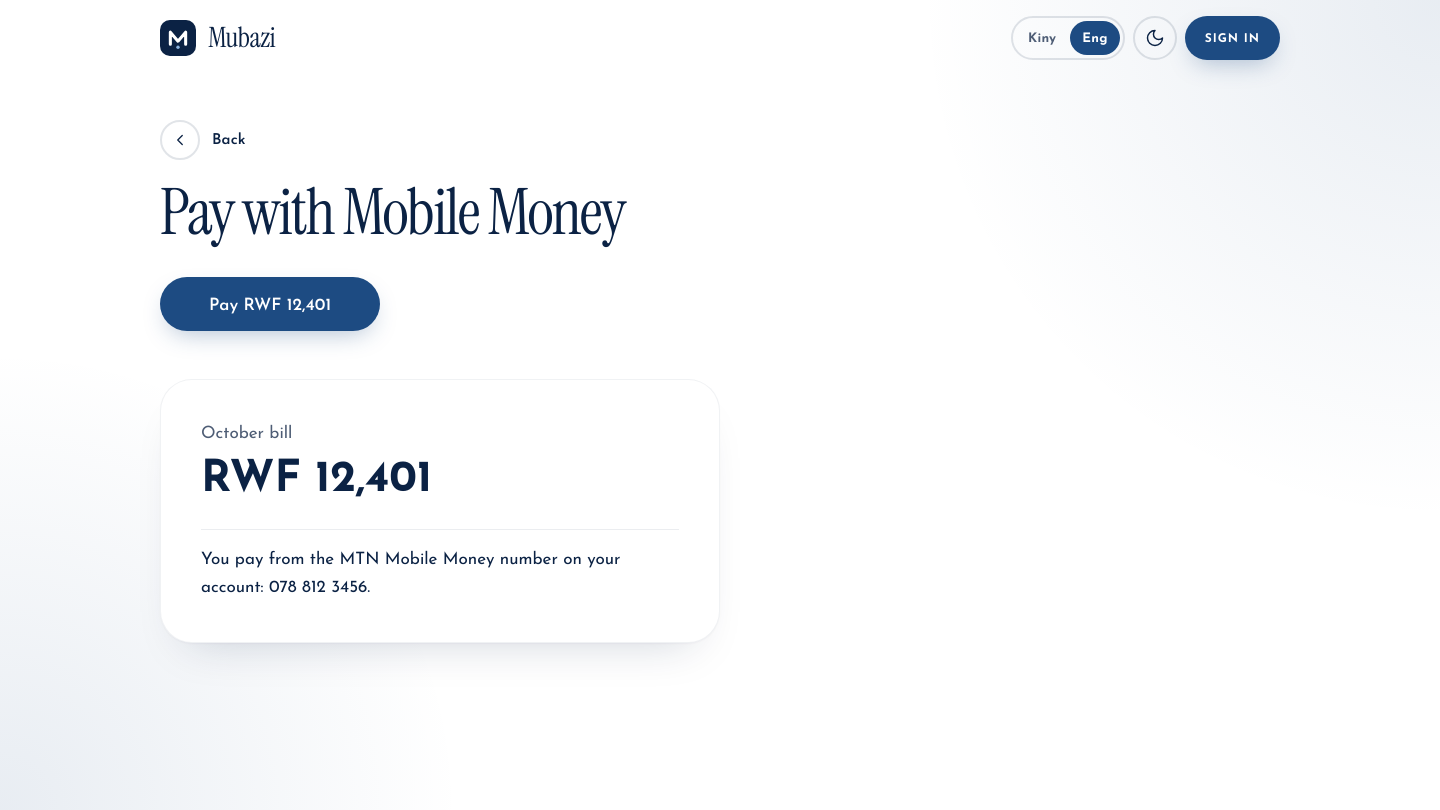
Payment › when the payer declines, should say nothing was taken and allow another try
Click the button "Pay RWF 12,401" at (270, 304), box 160,277 -> 380,331
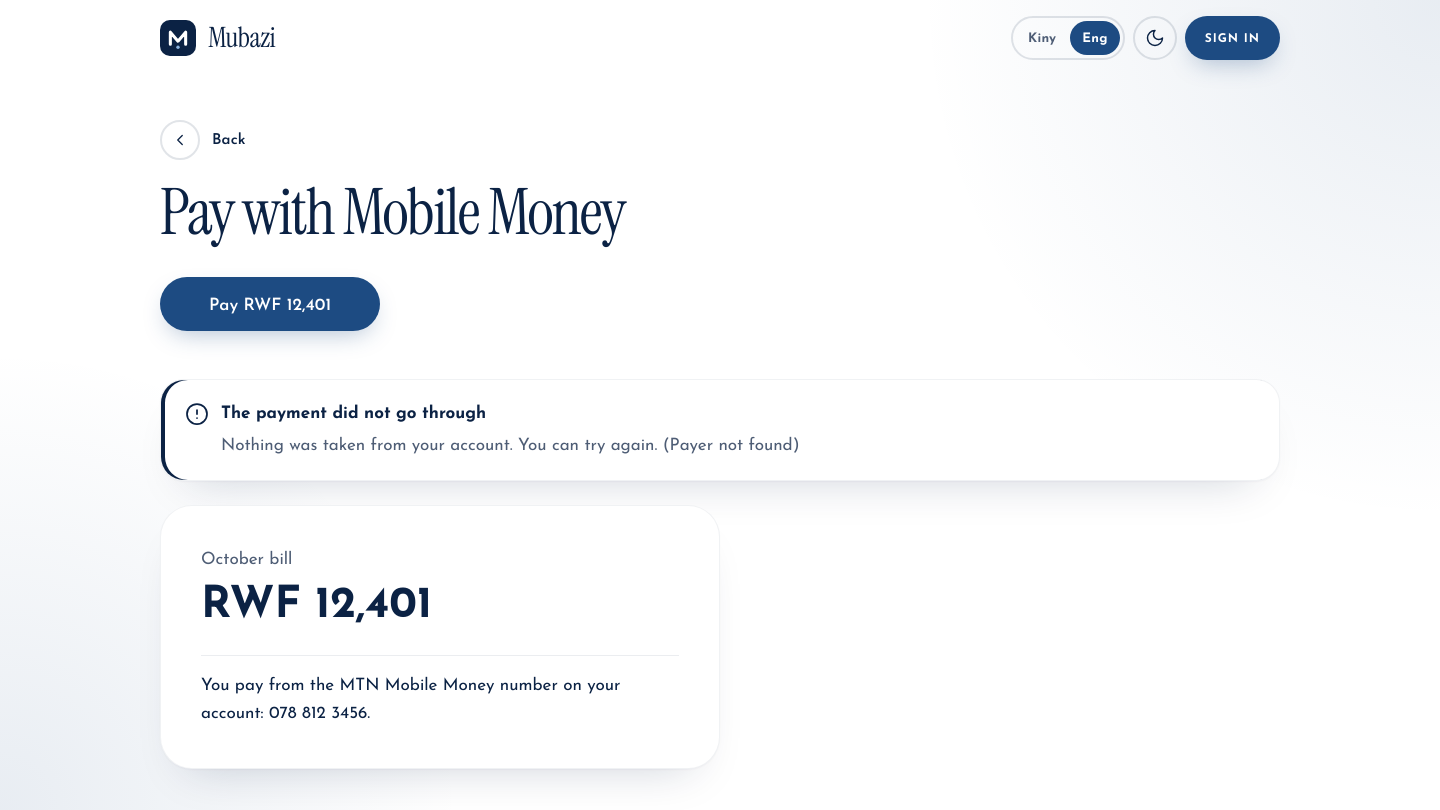
Check: the message shows "Nothing was taken from your account. You can try again. (Payer not found)", box 160,379 -> 1280,481
